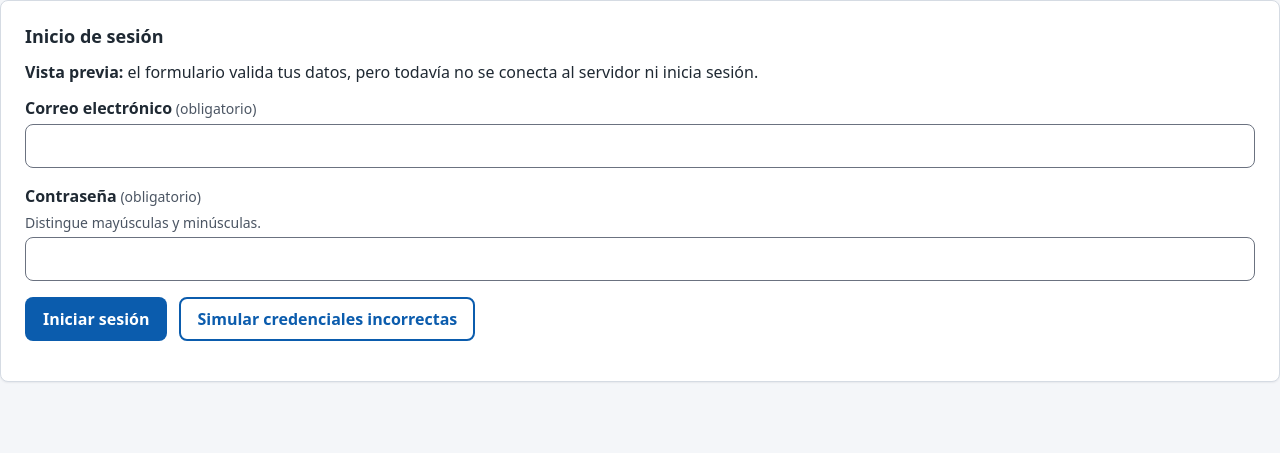
Test: FormularioLoginDemo (integración de InputField, Button y Card) › corregir un campo retira solo su error
Click the button "Iniciar sesión": [96, 319] box [25,297,168,341]
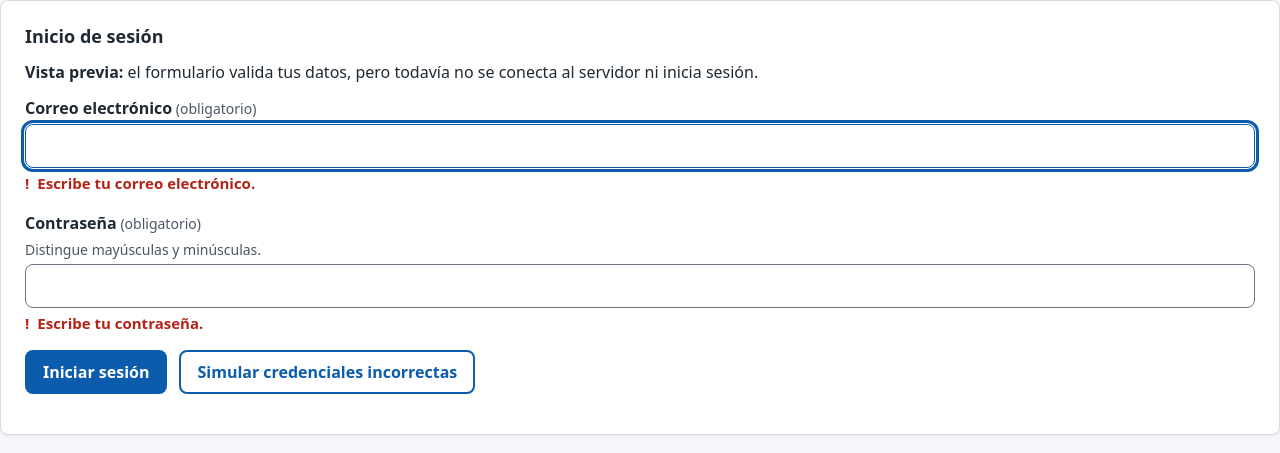
In the field labelled "Correo electrónico (obligatorio)": [640, 146] box [25,124,1255,168], type "a"
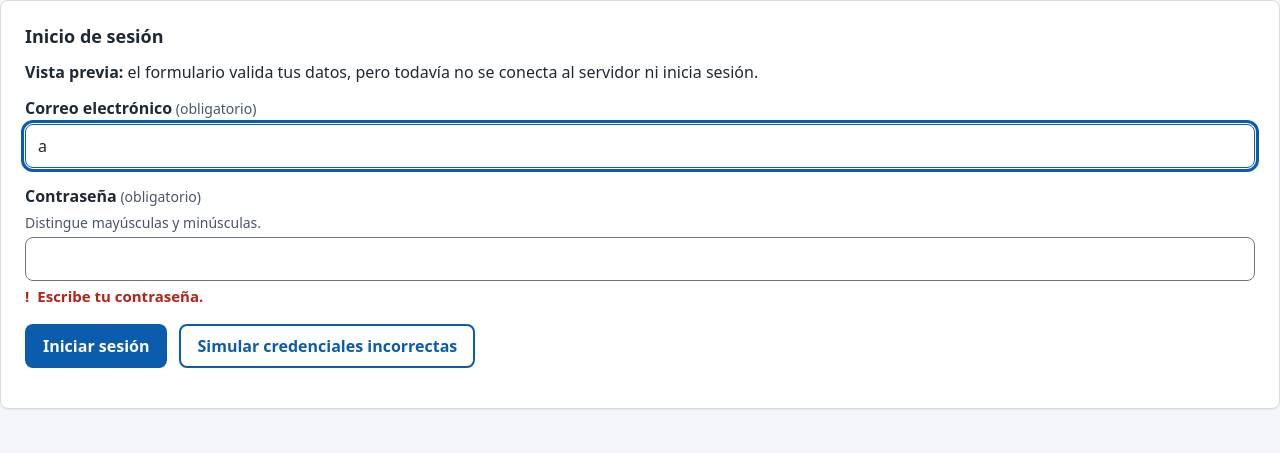
Now the field labelled "Correo electrónico (obligatorio)" does not have attribute aria-invalid, box [25,124,1255,168]
Now the password field labelled "Contraseña (obligatorio)" is marked as invalid, box [25,237,1255,281]
